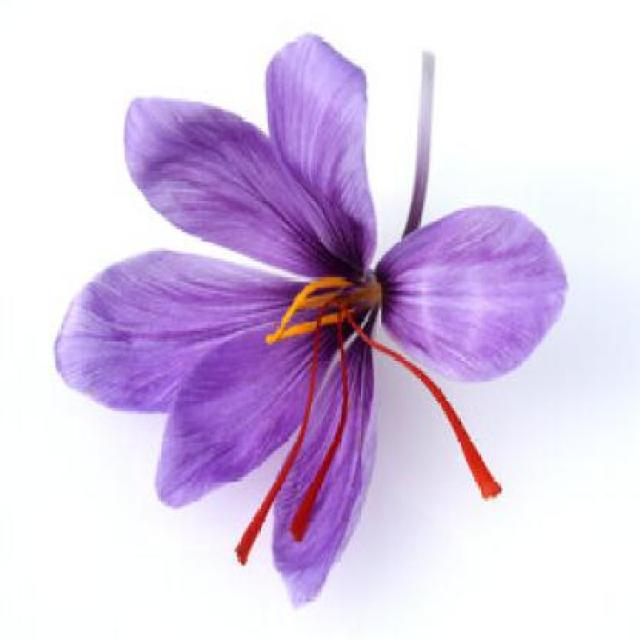Flower: (52, 26, 574, 619)
stigma: (343, 305, 504, 511), (226, 303, 330, 573), (288, 305, 354, 547)
